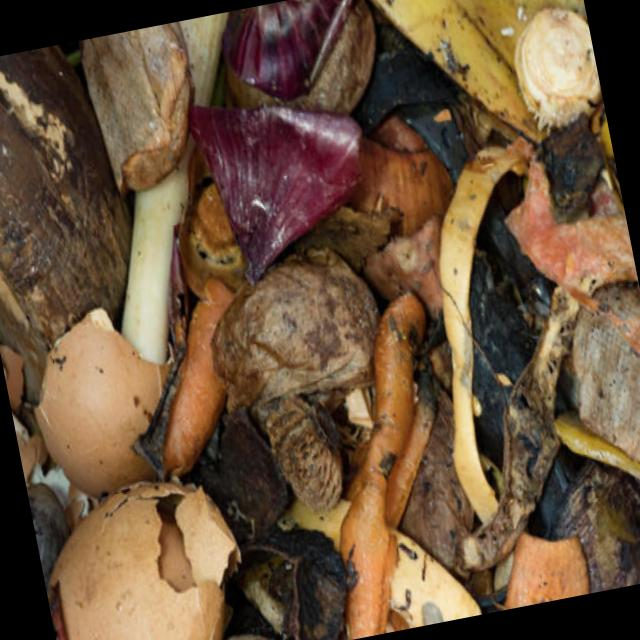paper: (166, 50, 368, 302), (24, 439, 255, 640), (1, 286, 197, 491), (364, 0, 604, 152), (141, 248, 278, 478)
